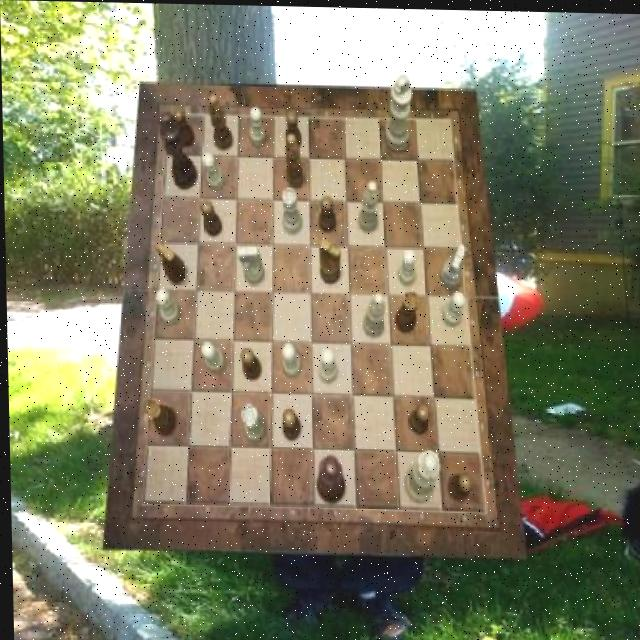bishop: (208, 93, 232, 149), (284, 133, 303, 187)
black-bishop: (157, 110, 196, 190)
black-king: (154, 239, 185, 282), (319, 238, 340, 284)
black-knight: (172, 107, 194, 148), (199, 199, 221, 235), (447, 471, 472, 499), (238, 347, 259, 380), (317, 195, 335, 231), (407, 402, 427, 434), (285, 110, 301, 148), (280, 408, 298, 440)
black-pawn: (314, 455, 344, 503)
black-queen: (144, 398, 175, 436), (393, 288, 418, 331)
black-rook: (356, 180, 378, 233), (359, 291, 383, 335)
white-bishop: (383, 73, 412, 152)
white-king: (439, 241, 466, 287), (236, 244, 263, 283)
white-knight: (154, 289, 178, 325), (439, 289, 463, 324), (201, 151, 222, 189), (198, 340, 222, 372), (396, 246, 414, 283), (249, 106, 265, 146), (318, 347, 336, 382), (281, 342, 299, 376)
white-pawn: (402, 447, 439, 502)
white-queen: (281, 186, 301, 233), (239, 403, 263, 441)
